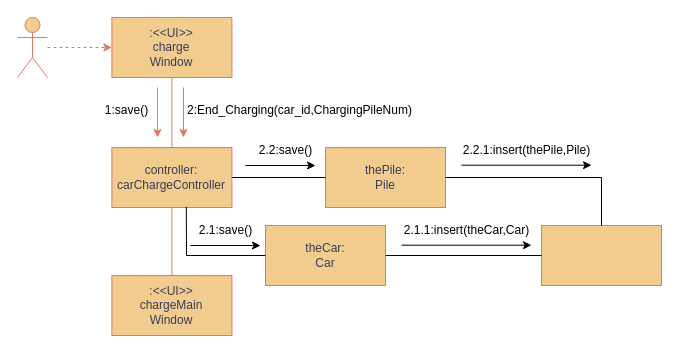
Some shapes in this 679 by 353 pixel diagram are drawn without their labels. The centre of each missing label's shape, as x and y in pixels:
:DBFacade: point (601, 255)
User: point (32, 47)
